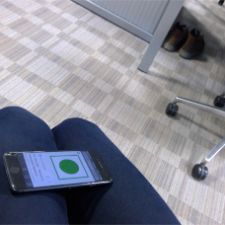focus: (56, 157, 81, 177)
